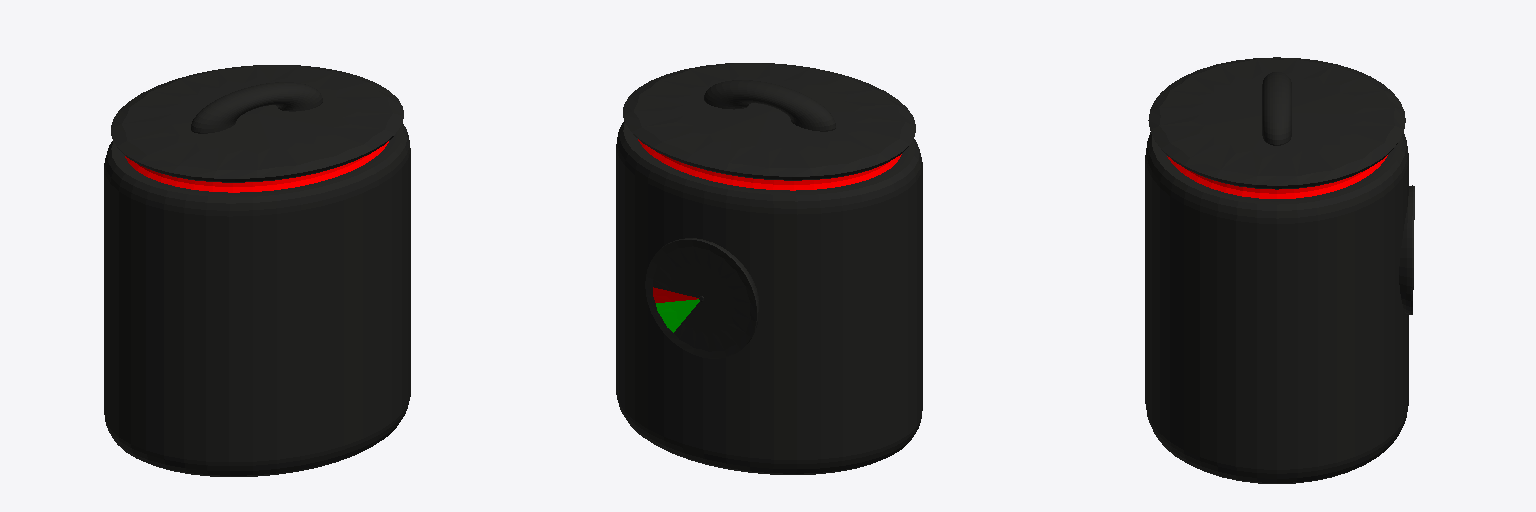
Rendered from pot1.obj.
The picture shows the model from 3 angles: view 1: azimuth 30°, elevation 25°; view 2: azimuth 150°, elevation 25°; view 3: azimuth 270°, elevation 25°; orthographic projection.
Visible parts, largest first — view 1: pCylinder6_pCylinder6, pTorus1_pTorus1; view 2: pCylinder6_pCylinder6, pCylinder9_pCylinder9, pTorus1_pTorus1; view 3: pCylinder6_pCylinder6, pTorus1_pTorus1, pCylinder9_pCylinder9.
Boxes of the visible parts, <box> form: pCylinder6_pCylinder6: <box>104,65,410,476</box>; pTorus1_pTorus1: <box>191,82,322,133</box>; pCylinder6_pCylinder6: <box>616,63,922,474</box>; pCylinder9_pCylinder9: <box>645,238,759,358</box>; pTorus1_pTorus1: <box>704,80,835,131</box>; pCylinder6_pCylinder6: <box>1145,57,1408,483</box>; pTorus1_pTorus1: <box>1262,72,1291,145</box>; pCylinder9_pCylinder9: <box>1399,185,1414,314</box>.
Size of the model in its own units: 3.14 by 3.67 by 2.65.